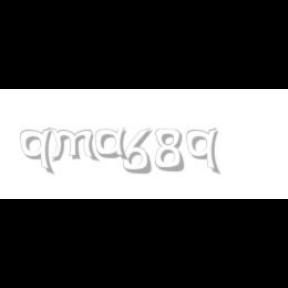6: (122, 128, 152, 176)
8: (154, 128, 184, 172)
a: (96, 128, 132, 160)
m: (48, 128, 100, 162)
q: (20, 128, 56, 176), (186, 128, 222, 176)
